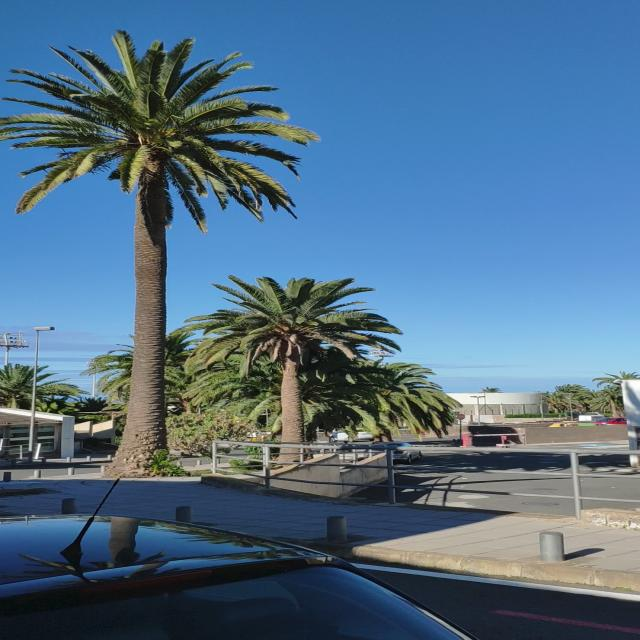Palm-Trees: (0, 29, 303, 472), (182, 273, 404, 460)
